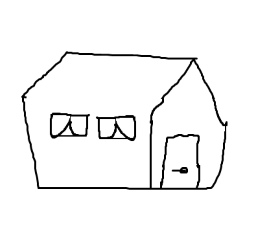door: (159, 131, 211, 192)
open_window: (93, 112, 142, 144), (45, 108, 90, 141)
single_line_roof: (10, 34, 244, 105)
wall: (146, 54, 241, 193)
